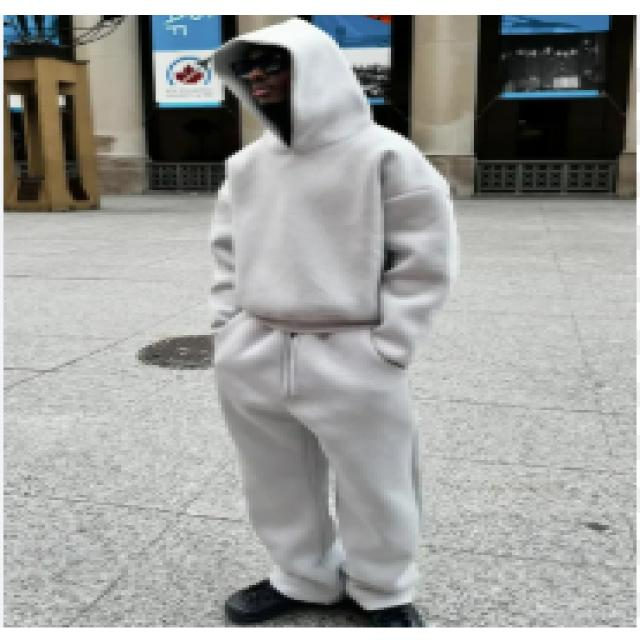4_capucha: (206, 17, 375, 154)
